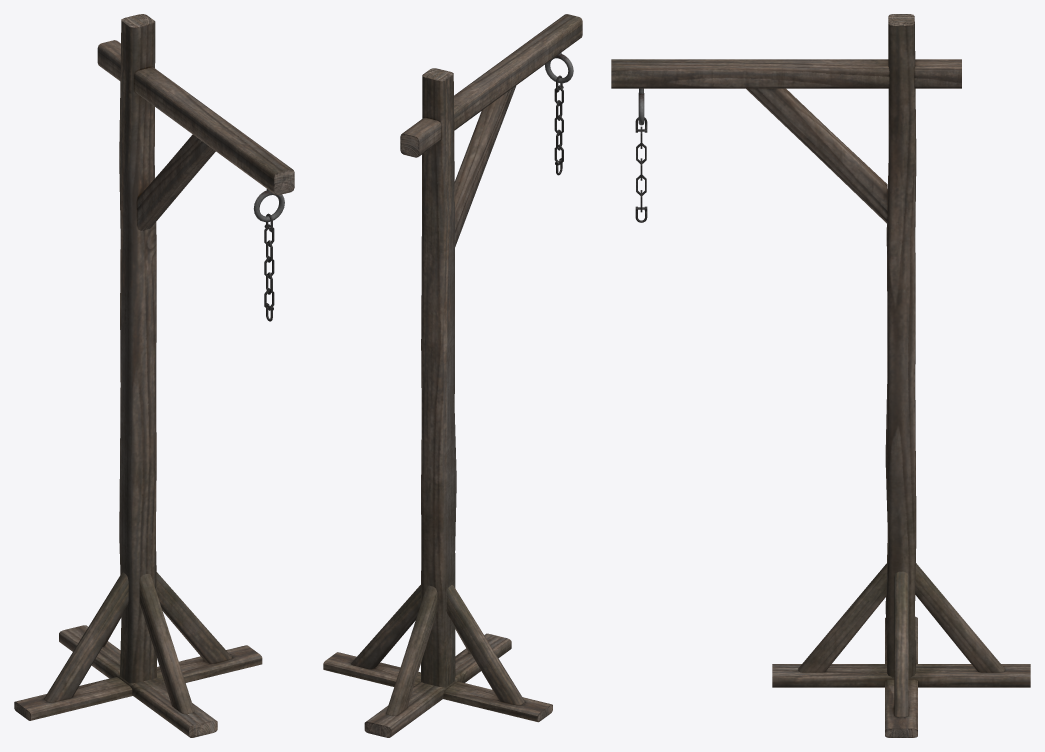
The model's file is pole_04.fbx.
3 views of the same model, side by side, from view 1: azimuth 30°, elevation 25°; view 2: azimuth 150°, elevation 25°; view 3: azimuth 270°, elevation 25° (orthographic). The views are drawn at different scales.
Parts seen in each view (by area): view 1: pole_04; view 2: pole_04; view 3: pole_04.
Boxes of the visible parts, x1,y1,x2,y2 form: pole_04: (14, 14, 294, 737); pole_04: (323, 14, 582, 737); pole_04: (611, 14, 1030, 737).
Size of the model in its own units: 248 by 681 by 391.
